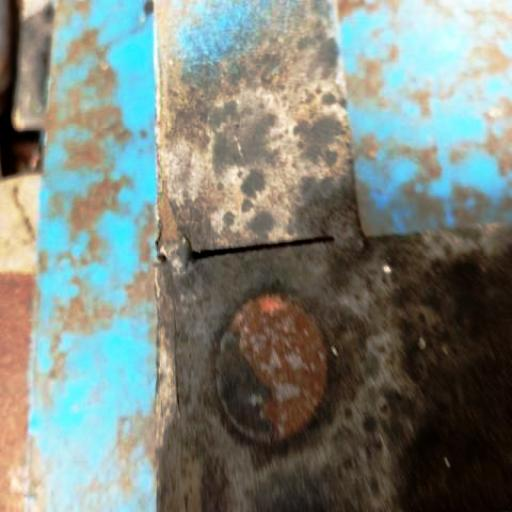crack: (155, 225, 339, 263)
